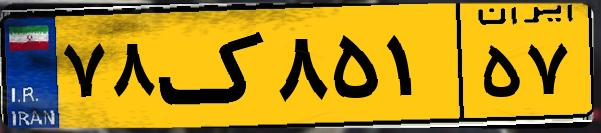1: (385, 28, 445, 110)
5: (330, 28, 385, 110), (475, 38, 525, 113)
7: (57, 26, 110, 100), (525, 38, 570, 115)
8: (270, 28, 330, 110), (110, 28, 158, 98)
ک: (158, 12, 270, 120)
